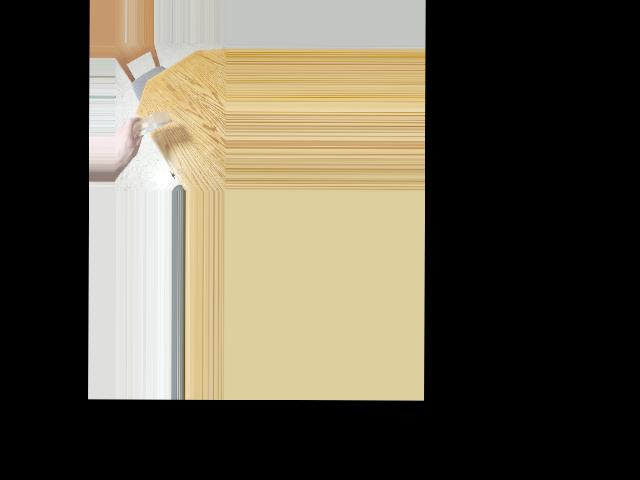cheese: (127, 111, 173, 136)
